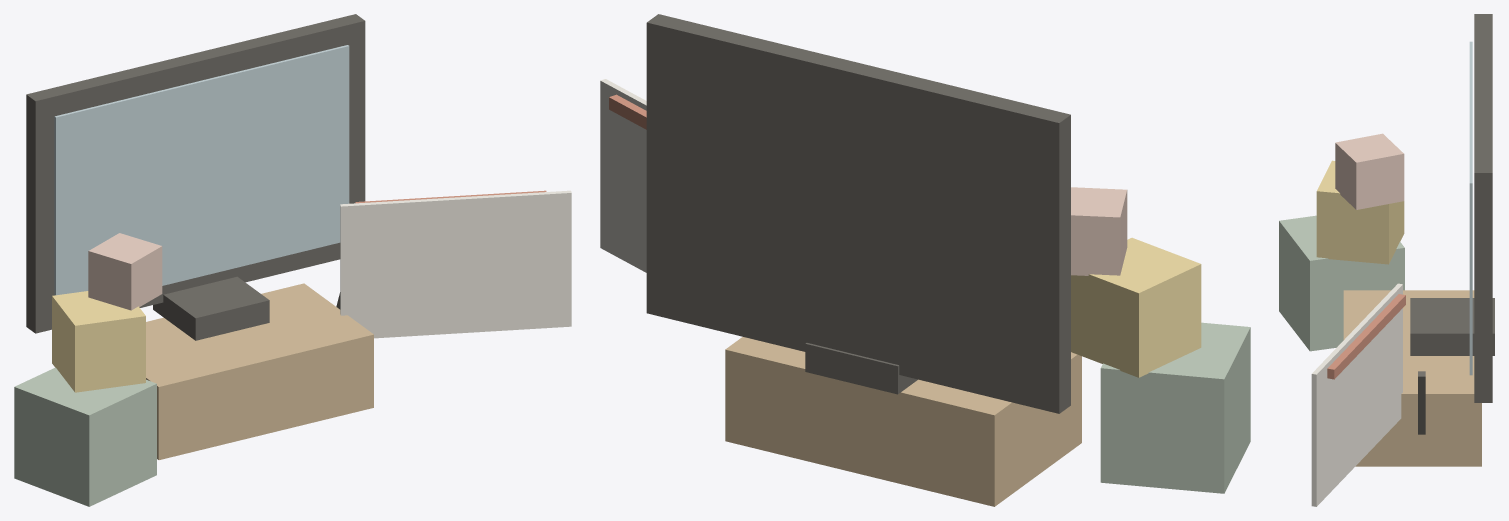
Rendered from interactive.gltf.
3 renders of one model, left to right at view 1: azimuth 30°, elevation 25°; view 2: azimuth 150°, elevation 25°; view 3: azimuth 270°, elevation 25°, orthographic. The views are drawn at different scales.
Parts seen in each view (by area): view 1: hotspot_screen, hotspot_flow, Pedestal, ScreenFrame, BlockA, BlockB, ScreenBase, BlockC; view 2: ScreenFrame, Pedestal, BlockA, BlockB, hotspot_flow, BlockC, ScreenBase, FlowBar; view 3: Pedestal, hotspot_flow, BlockA, ScreenFrame, BlockB, BlockC, ScreenBase, FlowBar, hotspot_screen, Cable.
Part boxes in pixels (<box>): hotspot_screen: <box>54,45,349,295</box>; hotspot_flow: <box>340,190,571,338</box>; Pedestal: <box>146,283,373,459</box>; ScreenFrame: <box>26,14,365,333</box>; BlockA: <box>14,367,156,506</box>; BlockB: <box>52,291,145,392</box>; ScreenBase: <box>153,276,269,340</box>; BlockC: <box>88,233,162,310</box>; ScreenFrame: <box>646,14,1070,413</box>; Pedestal: <box>725,337,1081,506</box>; BlockA: <box>1100,322,1250,493</box>; BlockB: <box>1071,237,1201,377</box>; hotspot_flow: <box>600,79,646,272</box>; BlockC: <box>1071,187,1127,275</box>; ScreenBase: <box>805,343,917,394</box>; FlowBar: <box>609,94,646,129</box>; Pedestal: <box>1343,290,1481,466</box>; hotspot_flow: <box>1311,283,1402,506</box>; BlockA: <box>1279,215,1404,351</box>; ScreenFrame: <box>1474,14,1492,402</box>; BlockB: <box>1316,160,1404,264</box>; BlockC: <box>1335,133,1404,209</box>; ScreenBase: <box>1410,298,1494,355</box>; FlowBar: <box>1327,294,1405,379</box>; hotspot_screen: <box>1469,41,1472,375</box>; Cable: <box>1418,371,1425,434</box>.
Size of the model in its own units: 3.92 by 2.3 by 1.4.
